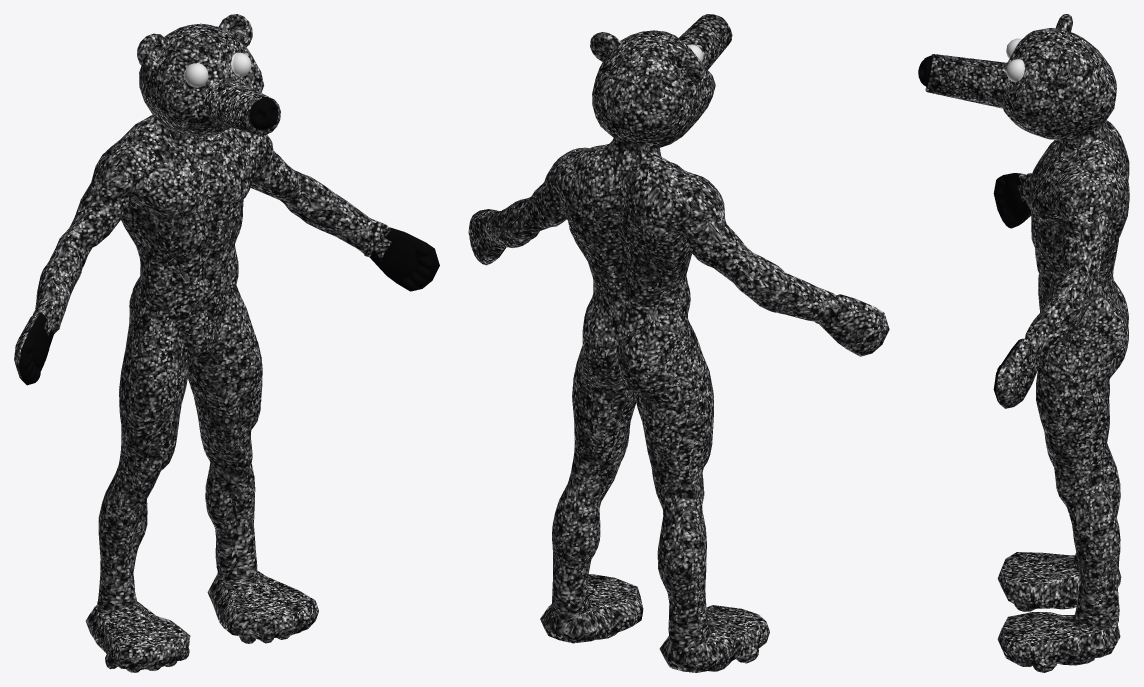
File: grizzly.glb
The picture shows the model from 3 angles, left to right: view 1: azimuth 30°, elevation 25°; view 2: azimuth 150°, elevation 25°; view 3: azimuth 270°, elevation 25°; orthographic projection. The views are drawn at different scales.
Parts seen in each view (by area): view 1: Sphere.028; view 2: Sphere.028; view 3: Sphere.028.
Boxes of the visible parts, x1,y1,x2,y2 form: Sphere.028: (14, 14, 439, 672); Sphere.028: (468, 14, 889, 672); Sphere.028: (918, 14, 1129, 672).
Size of the model in its own units: 1.29 by 1.79 by 0.5769.
Materials: 3 (1 with a texture image).
